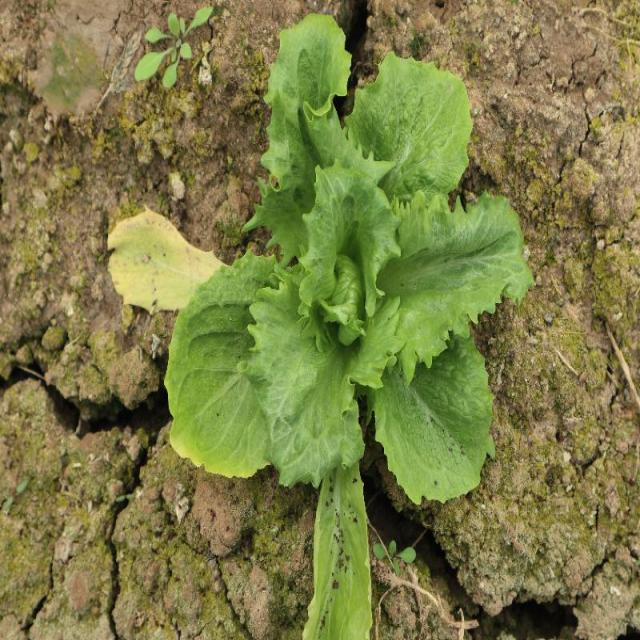crop: (164, 15, 537, 640)
